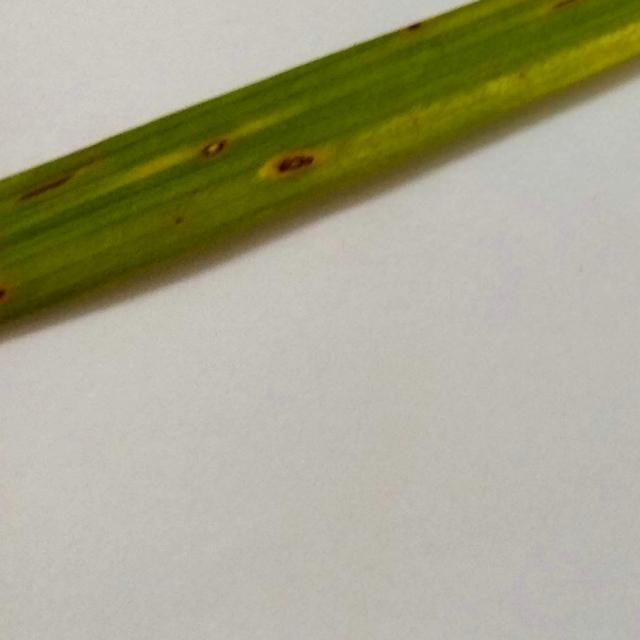Rice_Blast: (251, 140, 331, 178), (184, 128, 233, 156)
